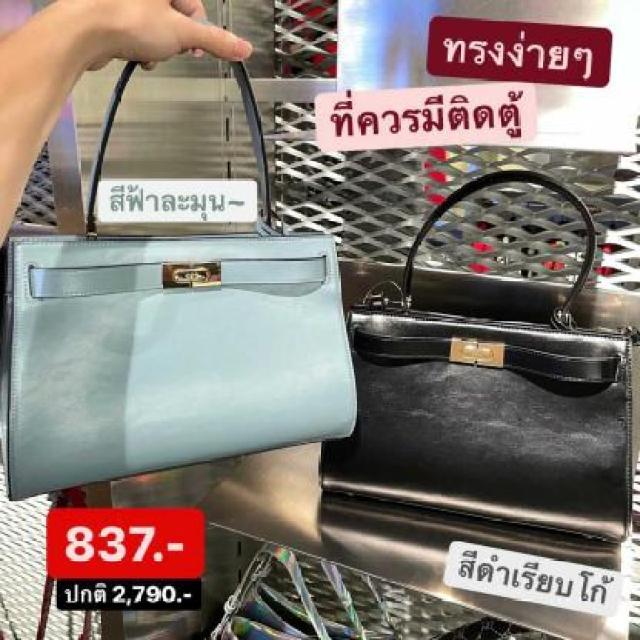Bag: (0, 14, 374, 506), (297, 151, 640, 560)
